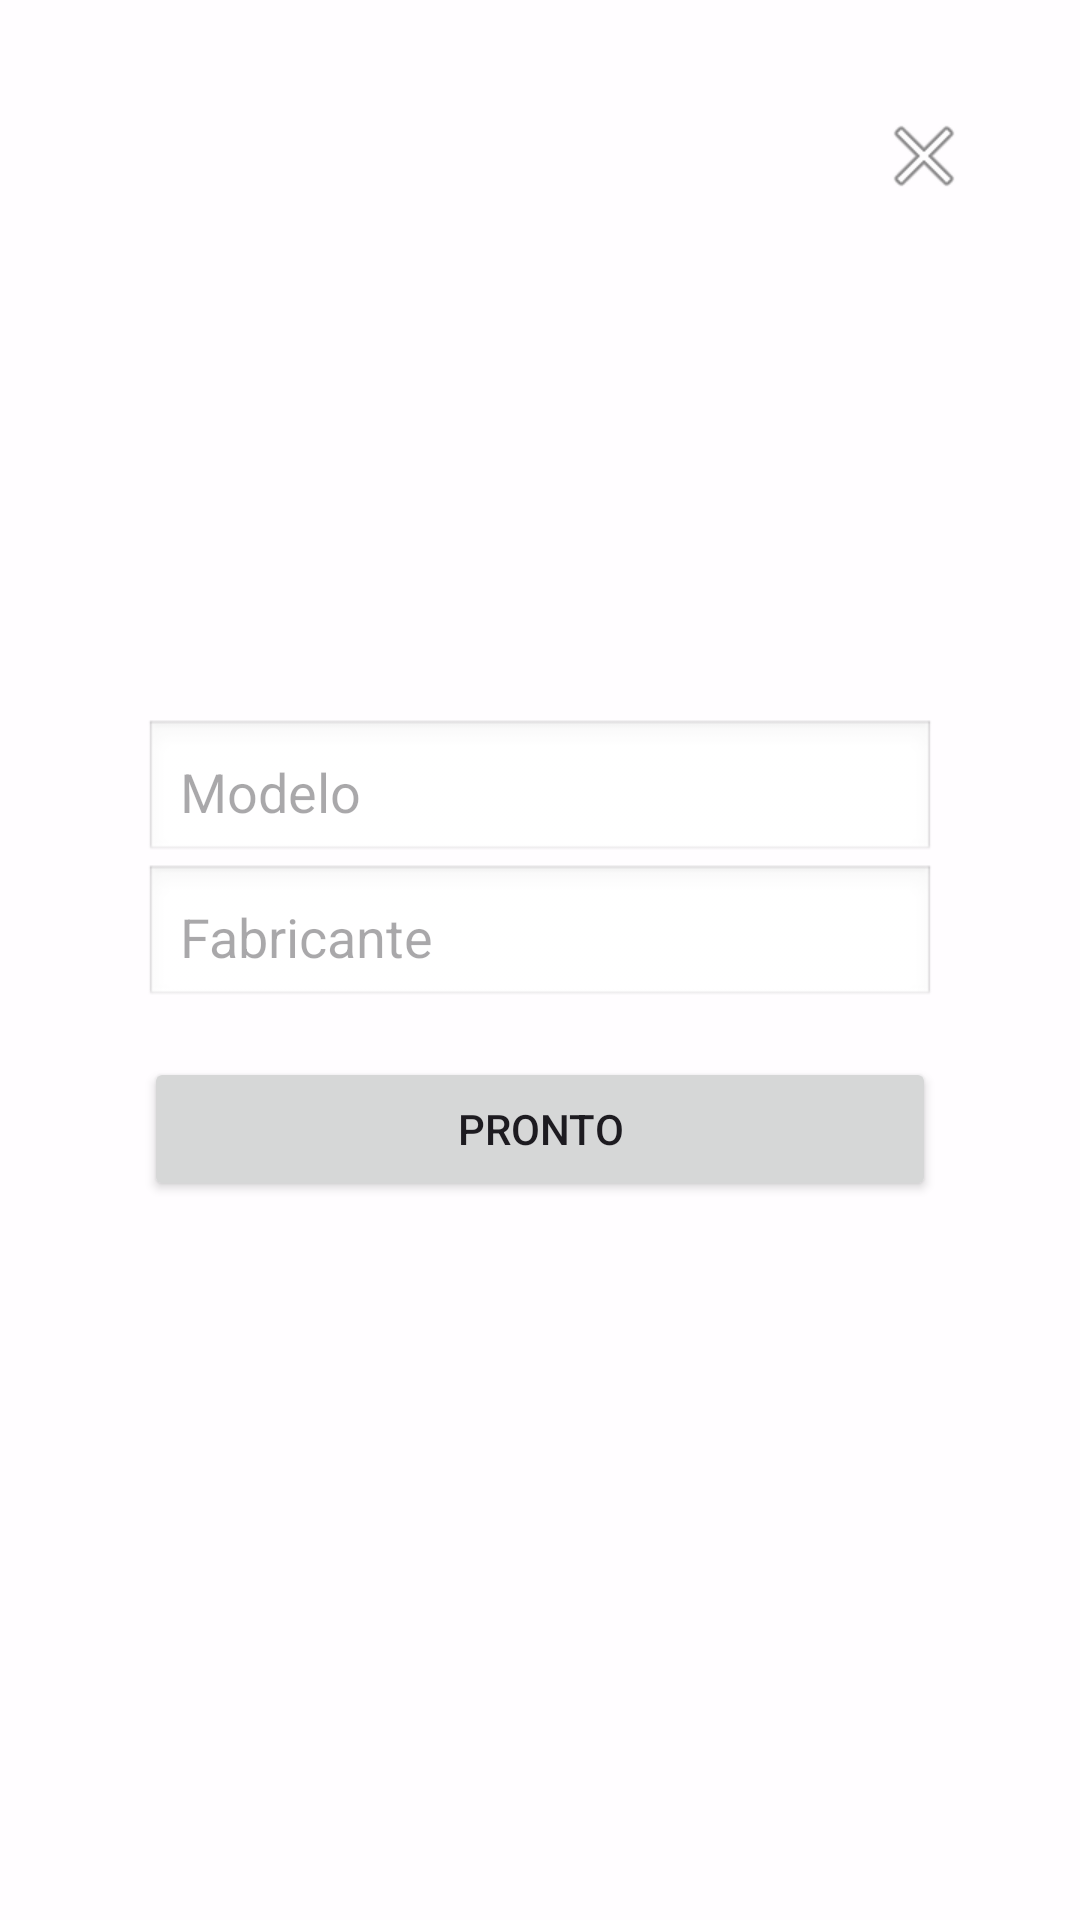

Where to tap for icons on this 1080×1920 app screen, as (x,y):
Fechar: (924,156)
